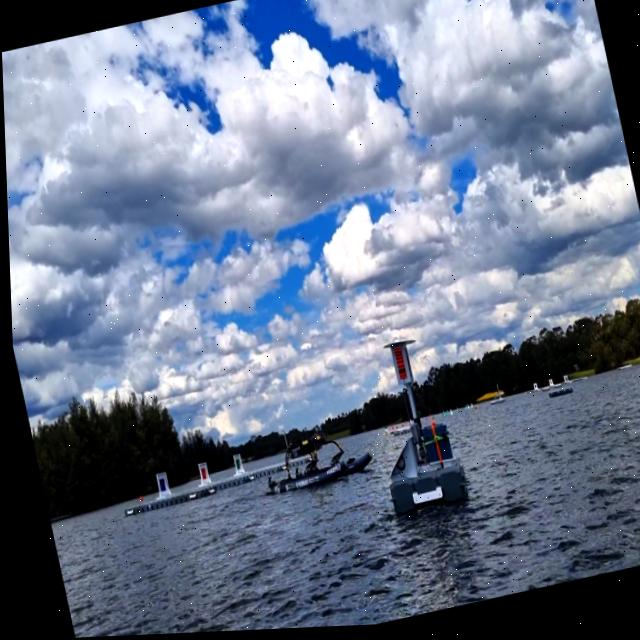led: (389, 347, 407, 386)
